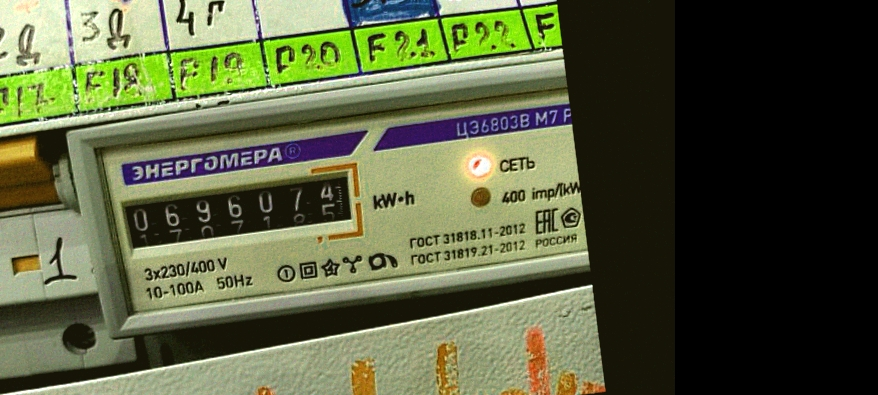0: (130, 206, 152, 233), (255, 188, 275, 215)
4: (317, 179, 335, 203)
5: (320, 202, 338, 224)
6: (224, 191, 245, 220), (161, 201, 182, 228)
7: (287, 185, 306, 212)
9: (193, 197, 212, 224)
screen: (109, 159, 370, 270)
